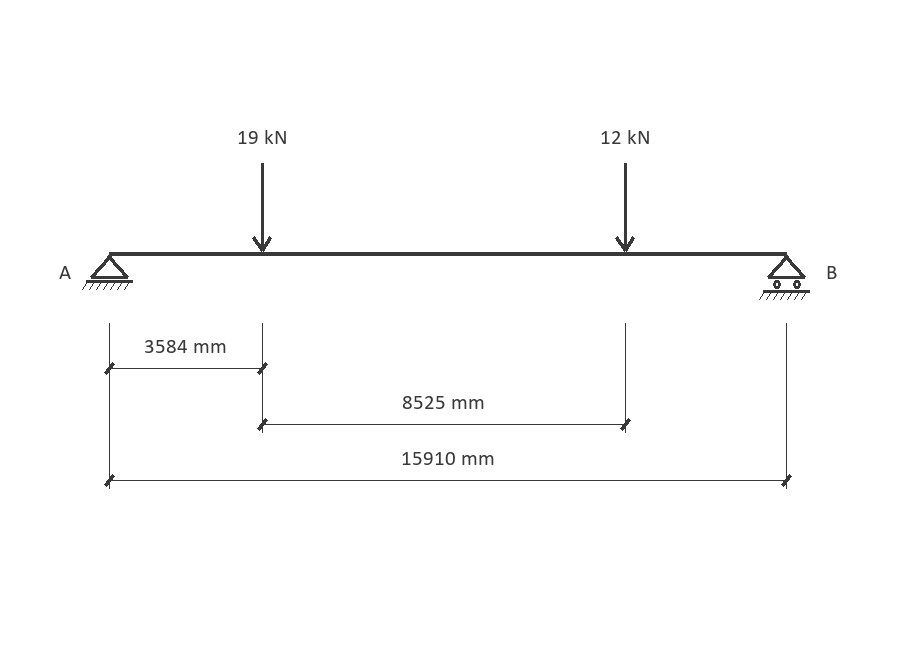pin_support: (82, 255, 133, 290)
point_load: (252, 163, 272, 252), (615, 163, 635, 252)
roller_support: (759, 255, 810, 300)
